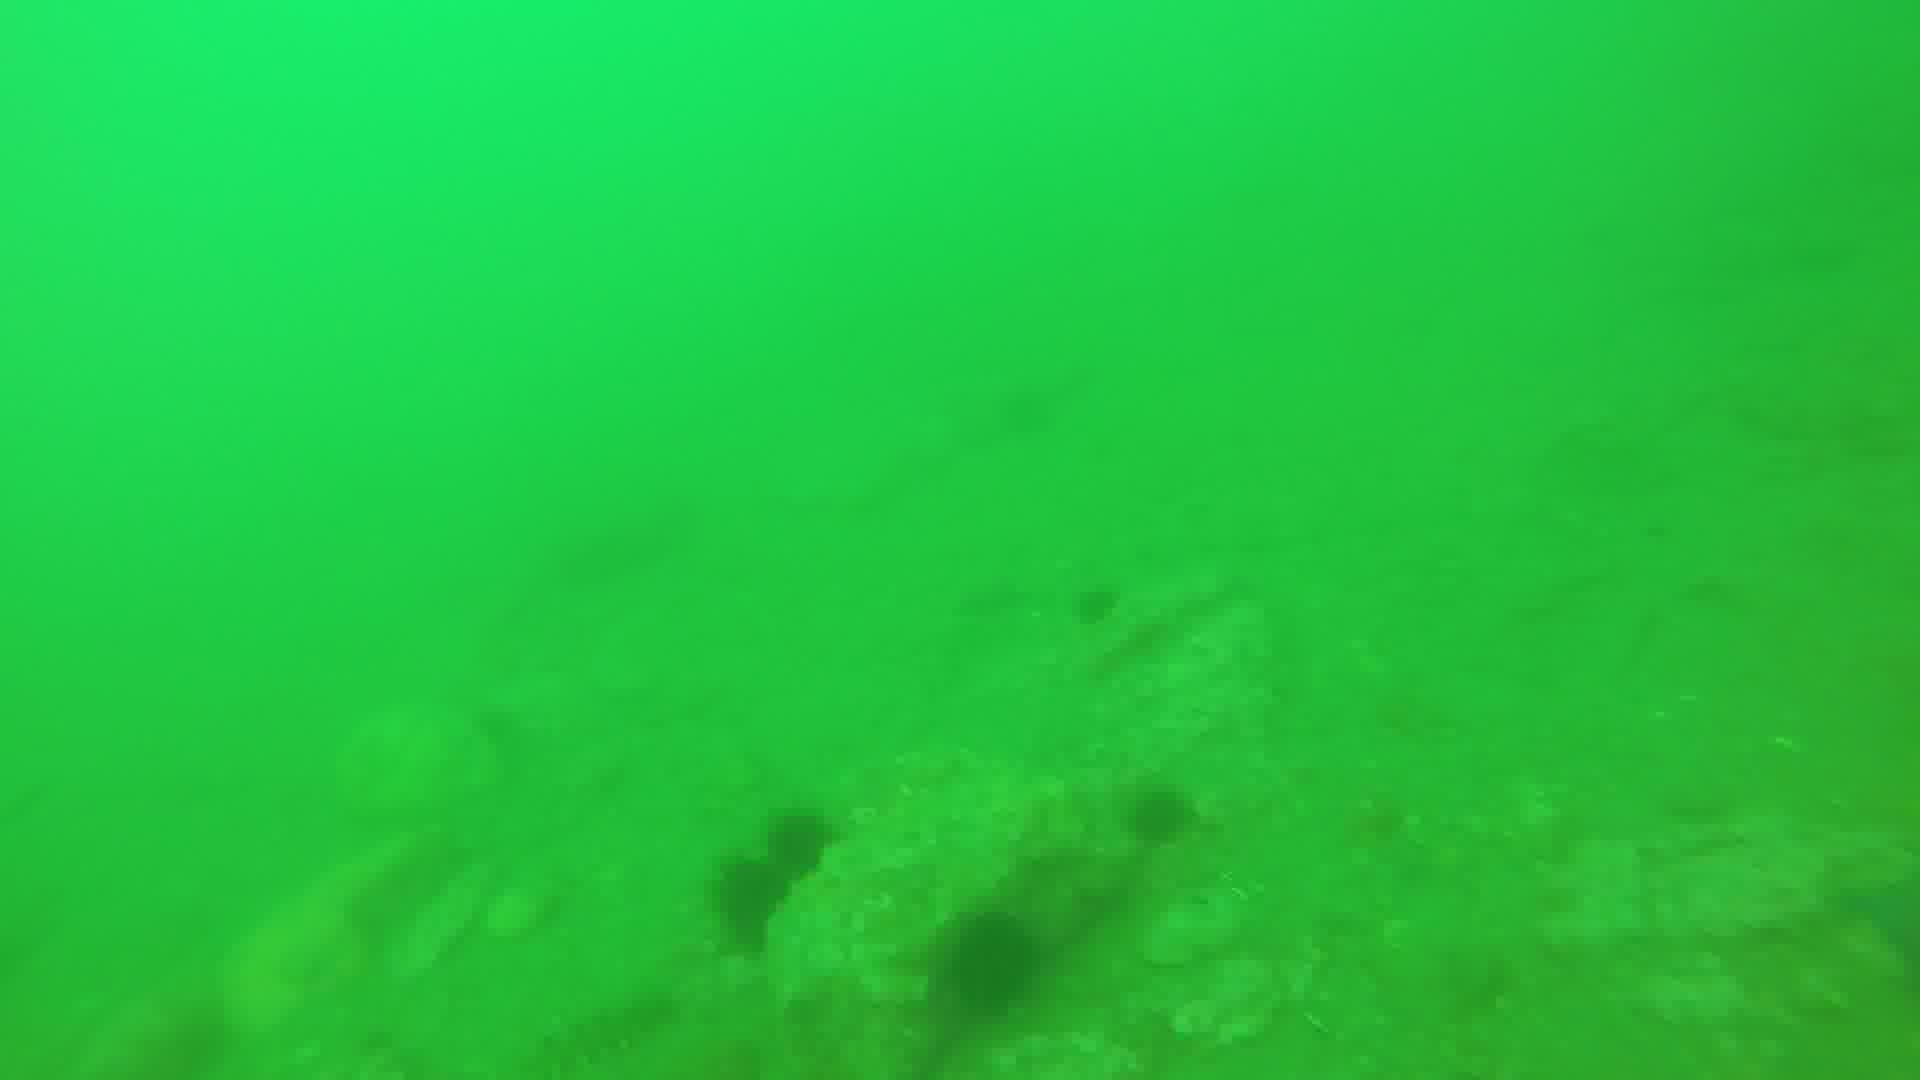echinus: (957, 913, 1048, 1015), (713, 855, 789, 945), (757, 804, 839, 882), (1131, 785, 1195, 843)
holothurian: (492, 994, 688, 1080)
